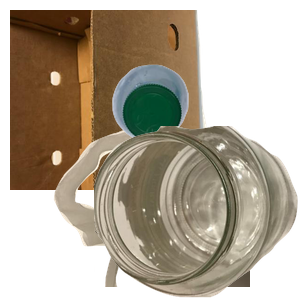cardboard: (10, 10, 211, 190)
glass: (94, 126, 300, 300)
plastic: (110, 62, 300, 198)
trash: (51, 120, 291, 300)
